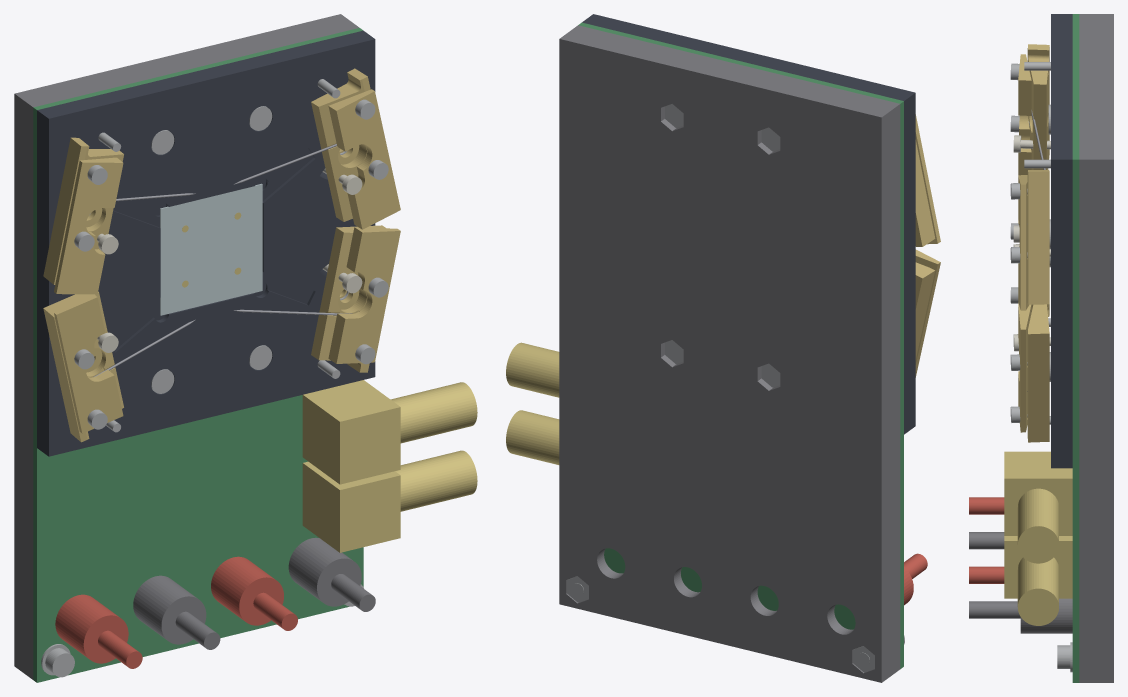
The model's file is T2P-P-swung18.glb.
3 renders of one model, left to right at view 1: azimuth 30°, elevation 25°; view 2: azimuth 150°, elevation 25°; view 3: azimuth 270°, elevation 25°, orthographic. The views are drawn at different scales.
Visible parts, largest first — view 1: p002, p001, p000, p017, p007, p016, p065, p038, p047, p056, p012, p013 (+6 smaller); view 2: p000, p002, p001, p016, p017, p054, p045, p047, p056, p012; view 3: p000, p002, p017, p001, p016, p036, p063, p054, p015, p056, p038, p065 (+7 smaller).
Part boxes in pixels (x1,y1,x2,y2): p002: [37, 30, 375, 456]; p001: [33, 28, 363, 682]; p000: [14, 14, 359, 679]; p017: [302, 380, 477, 484]; p007: [160, 183, 262, 315]; p016: [302, 450, 477, 552]; p065: [328, 227, 400, 363]; p038: [328, 89, 400, 229]; p047: [54, 294, 123, 433]; p056: [54, 157, 123, 294]; p012: [55, 594, 142, 668]; p013: [133, 575, 220, 649]; p000: [559, 25, 900, 682]; p002: [582, 14, 915, 434]; p001: [578, 22, 903, 668]; p016: [506, 410, 559, 464]; p017: [506, 342, 559, 397]; p054: [915, 140, 935, 246]; p045: [915, 262, 935, 359]; p047: [915, 249, 940, 377]; p056: [915, 114, 940, 244]; p012: [904, 553, 927, 605]; p000: [1079, 14, 1113, 682]; p002: [1051, 14, 1072, 468]; p017: [1004, 451, 1072, 563]; p001: [1072, 14, 1079, 682]; p016: [1004, 536, 1072, 625]; p036: [1027, 169, 1049, 304]; p063: [1027, 304, 1049, 442]; p054: [1027, 44, 1049, 169]; p015: [969, 598, 1072, 633]; p056: [1018, 54, 1031, 175]; p038: [1018, 175, 1028, 310]; p065: [1018, 303, 1031, 432].
Size of the model in its own units: 103 by 134 by 33.6.
